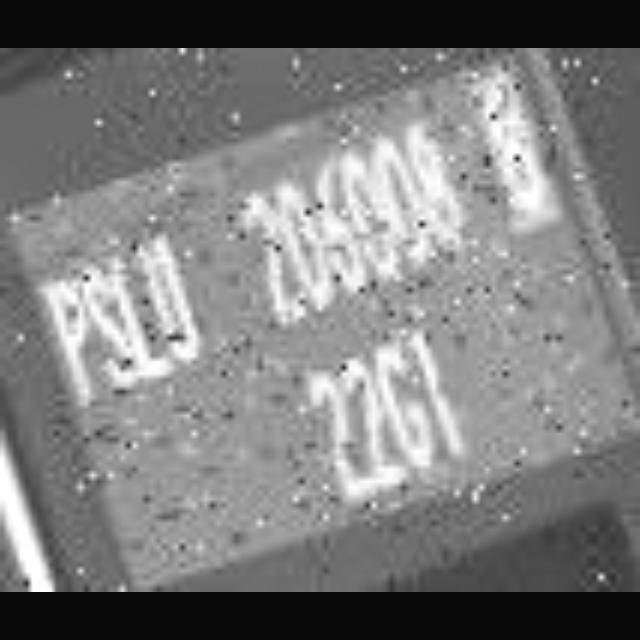0: (325, 145, 421, 306), (266, 167, 350, 322), (362, 136, 446, 284)
1: (400, 320, 475, 469)
2: (290, 349, 386, 528), (336, 336, 425, 513), (229, 183, 317, 339)
6: (360, 330, 454, 483), (301, 153, 384, 312)
8: (472, 53, 580, 248), (396, 111, 484, 264)
l: (96, 242, 184, 389)
p: (28, 263, 118, 423)
s: (69, 251, 151, 413)
u: (123, 227, 217, 374)
